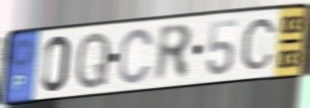0: (40, 34, 72, 94)
5: (206, 18, 239, 78)
C: (117, 26, 156, 86), (240, 17, 278, 72)
Q: (73, 29, 113, 92)
R: (153, 22, 194, 85)
